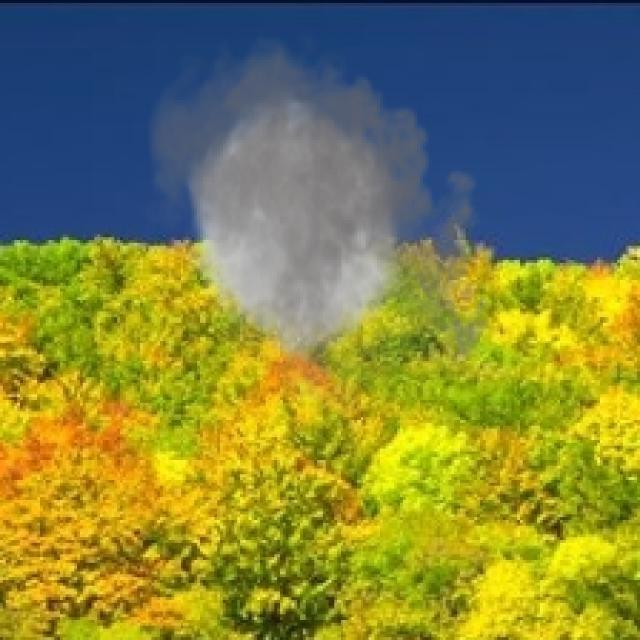Smoke: (134, 22, 500, 428)
